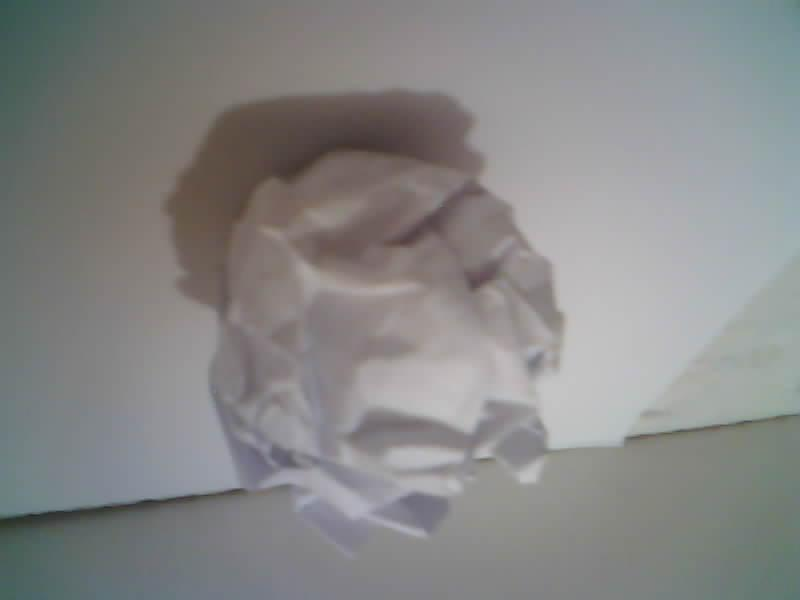biodegradable: (210, 150, 562, 553)
